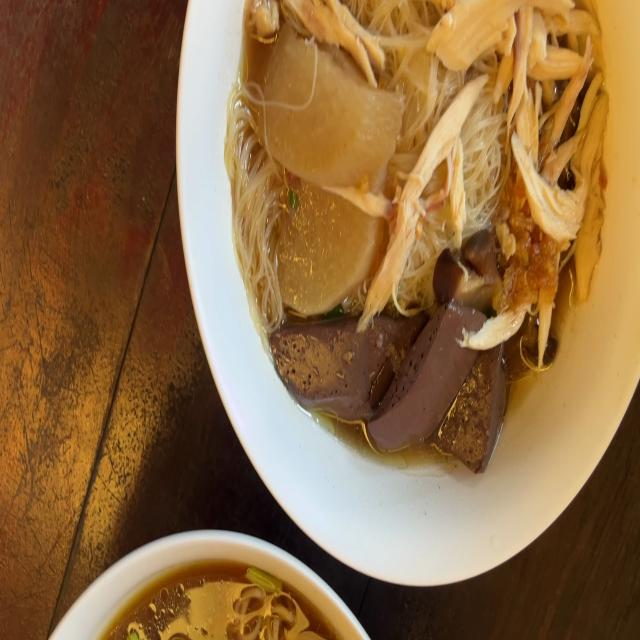noodle: (206, 0, 636, 479)
